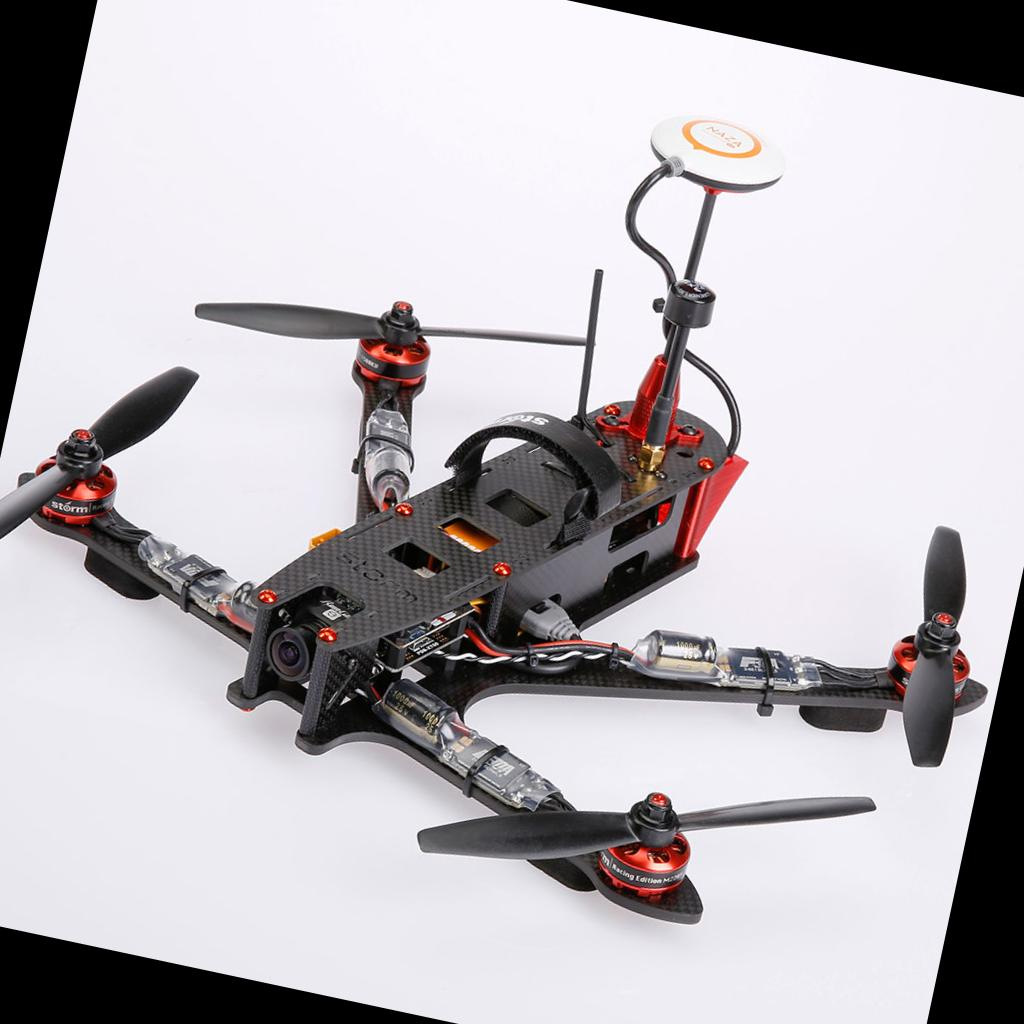drone: (0, 224, 1024, 982)
